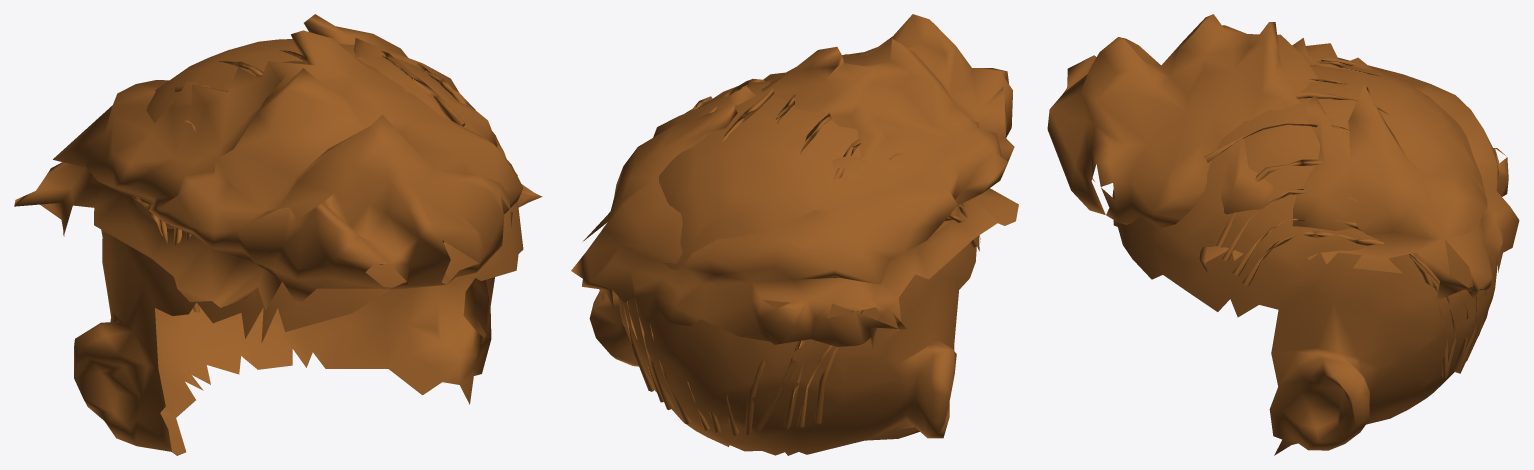
The model's file is quiff.glb.
3 views of the same model, side by side, from view 1: azimuth 30°, elevation 25°; view 2: azimuth 150°, elevation 25°; view 3: azimuth 270°, elevation 25° (orthographic). The views are drawn at different scales.
Visible parts, largest first — view 1: Hair, HairScalp, HairPulledRootStrands; view 2: Hair, HairScalp, HairPulledRootStrands; view 3: Hair, HairScalp, HairPulledRootStrands.
Boxes of the visible parts, left/top/right/bottom form: Hair: left=14, top=14, right=542, bottom=310; HairScalp: left=74, top=39, right=523, bottom=455; HairPulledRootStrands: left=101, top=50, right=517, bottom=312; Hair: left=571, top=14, right=1018, bottom=350; HairScalp: left=589, top=80, right=980, bottom=455; HairPulledRootStrands: left=619, top=79, right=977, bottom=435; Hair: left=1047, top=14, right=1519, bottom=300; HairScalp: left=1112, top=61, right=1497, bottom=455; HairPulledRootStrands: left=1204, top=57, right=1488, bottom=377.
Size of the model in its own units: 0.4777 by 0.4537 by 0.5355.
